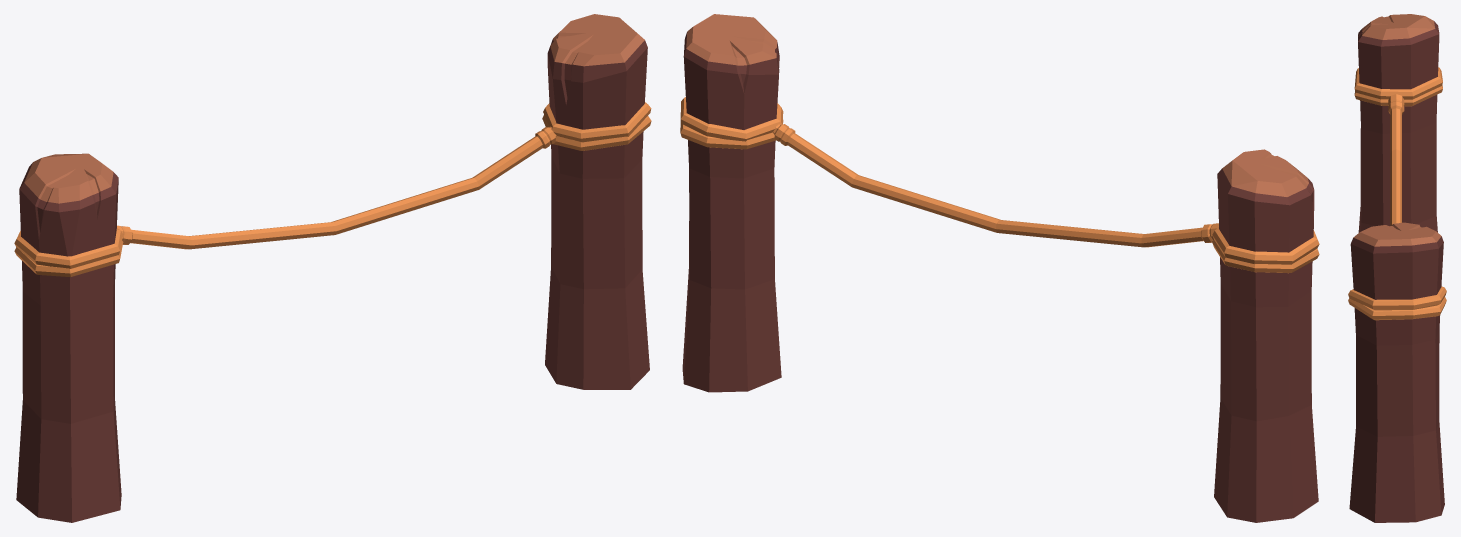
The model's file is Fence Wooden Blunt 03.fbx.
3 views of the same model, side by side, from view 1: azimuth 30°, elevation 25°; view 2: azimuth 150°, elevation 25°; view 3: azimuth 270°, elevation 25° (orthographic). The views are drawn at different scales.
Visible parts, largest first — view 1: Fence Wooden Blunt 03; view 2: Fence Wooden Blunt 03; view 3: Fence Wooden Blunt 03.
Part boxes in pixels (left/top/right/bottom): Fence Wooden Blunt 03: left=14, top=14, right=651, bottom=522; Fence Wooden Blunt 03: left=680, top=14, right=1319, bottom=522; Fence Wooden Blunt 03: left=1348, top=14, right=1446, bottom=522.
Bounding box in the file's own units: 199 × 105 × 33.63.
